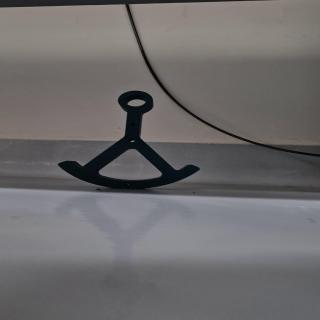haptic: (57, 90, 200, 190)
